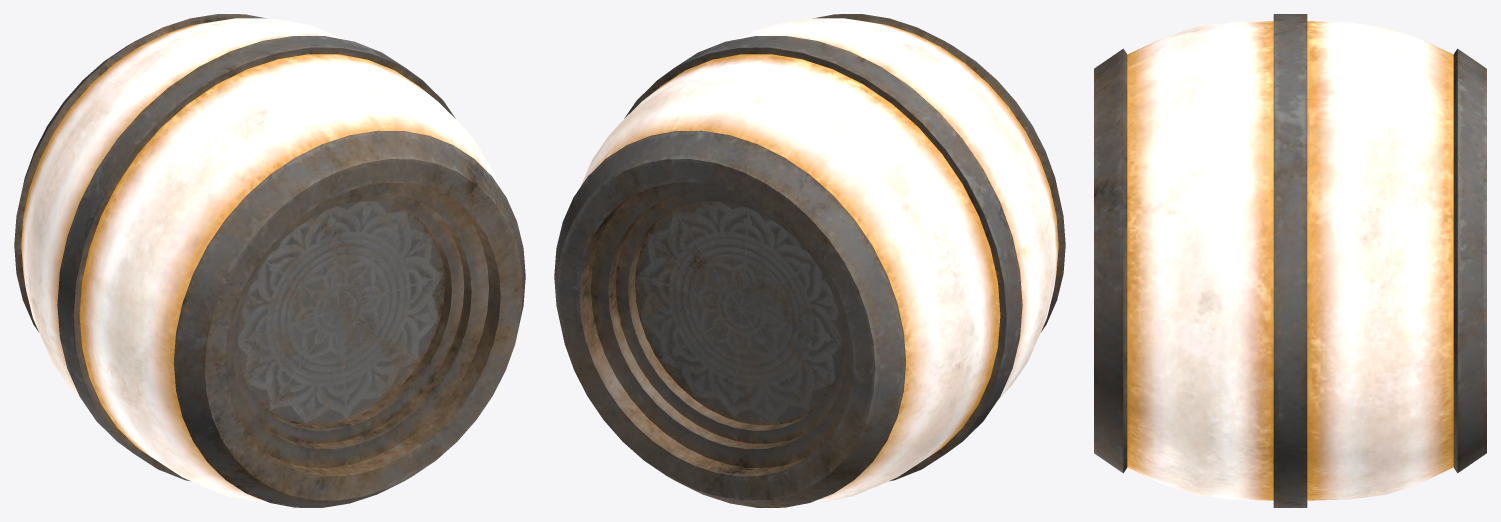
Rendered from xi_dsp_globe_light.gltf.
The picture shows the model from 3 angles, left to right: view 1: azimuth 30°, elevation 25°; view 2: azimuth 150°, elevation 25°; view 3: azimuth 270°, elevation 25°; orthographic projection. The views are drawn at different scales.
Parts seen in each view (by area): view 1: xi_dsp_globe_light; view 2: xi_dsp_globe_light; view 3: xi_dsp_globe_light.
Boxes of the visible parts, x1=… form: xi_dsp_globe_light: x1=14, y1=14, x2=525, y2=507; xi_dsp_globe_light: x1=554, y1=14, x2=1065, y2=507; xi_dsp_globe_light: x1=1094, y1=14, x2=1486, y2=507.
Size of the model in its own units: 0.5284 by 0.5284 by 0.4201.
1 material, 1 textured.
